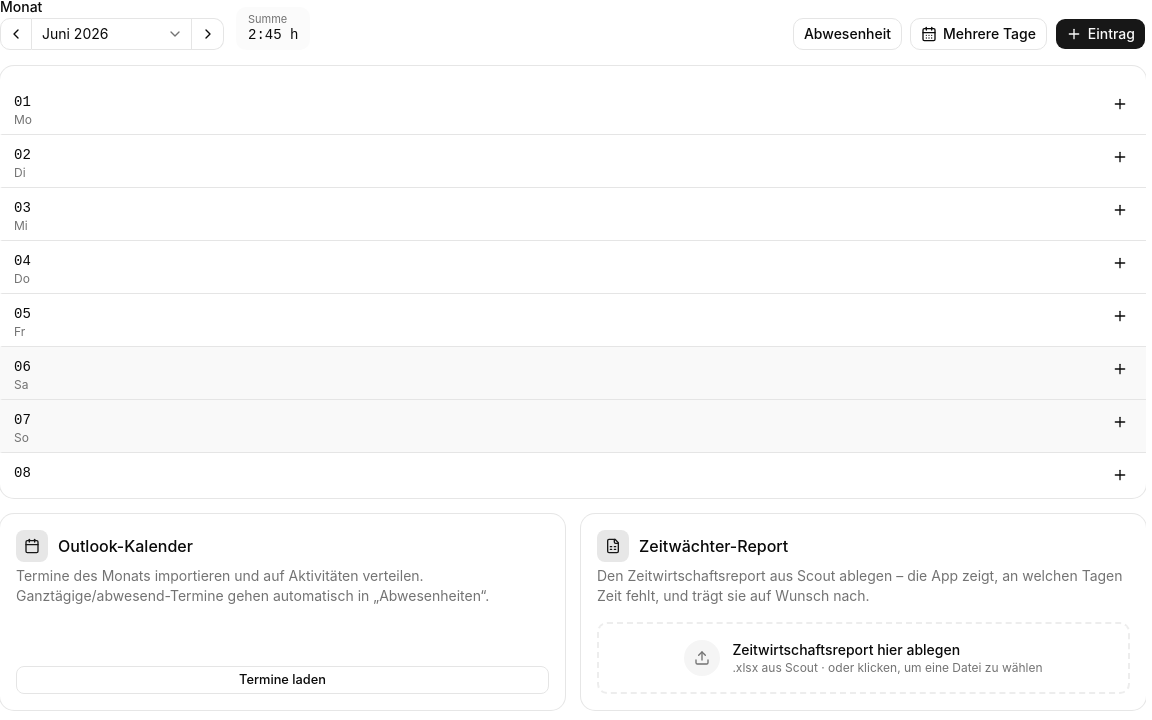
Test: Neuer Eintrag: nach der Wahl der Aktivität › springt auch bei der Wahl mit Enter zu den Stunden
The width and height of the screenshot is (1152, 720).
Step 1. Click the button "Eintrag" → (1100,34), box [1055,18,1146,50]
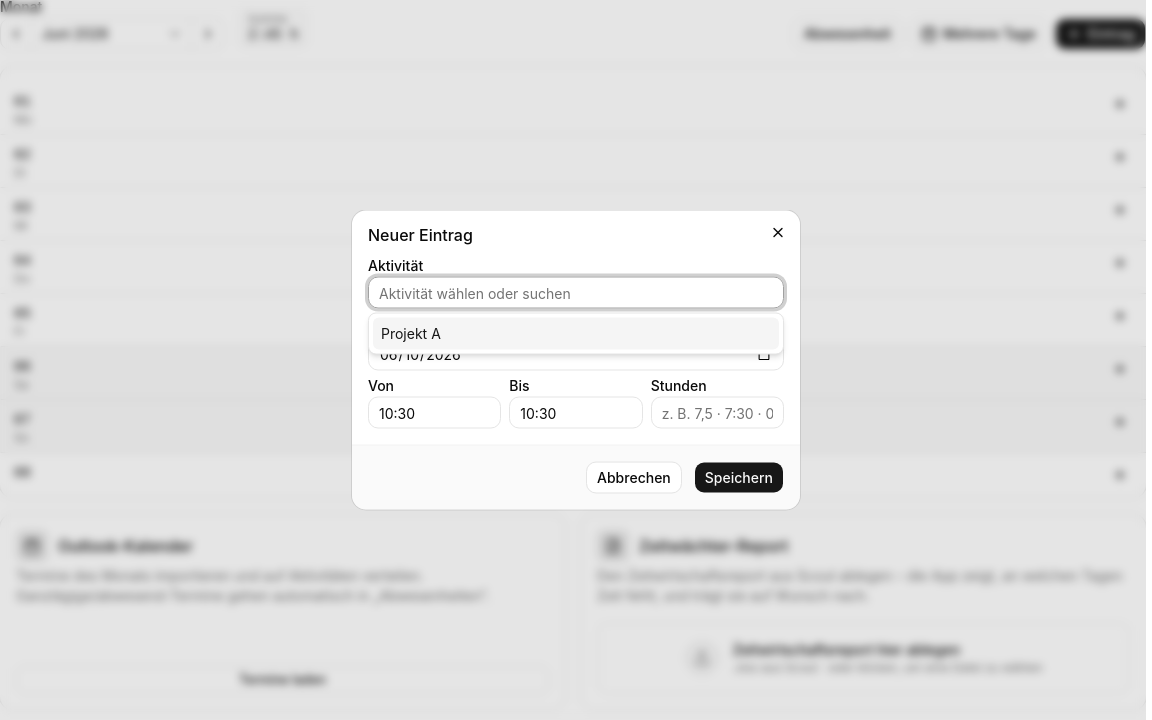
Step 2. Press Enter in the dropdown with id "act", box [368,276,784,308]
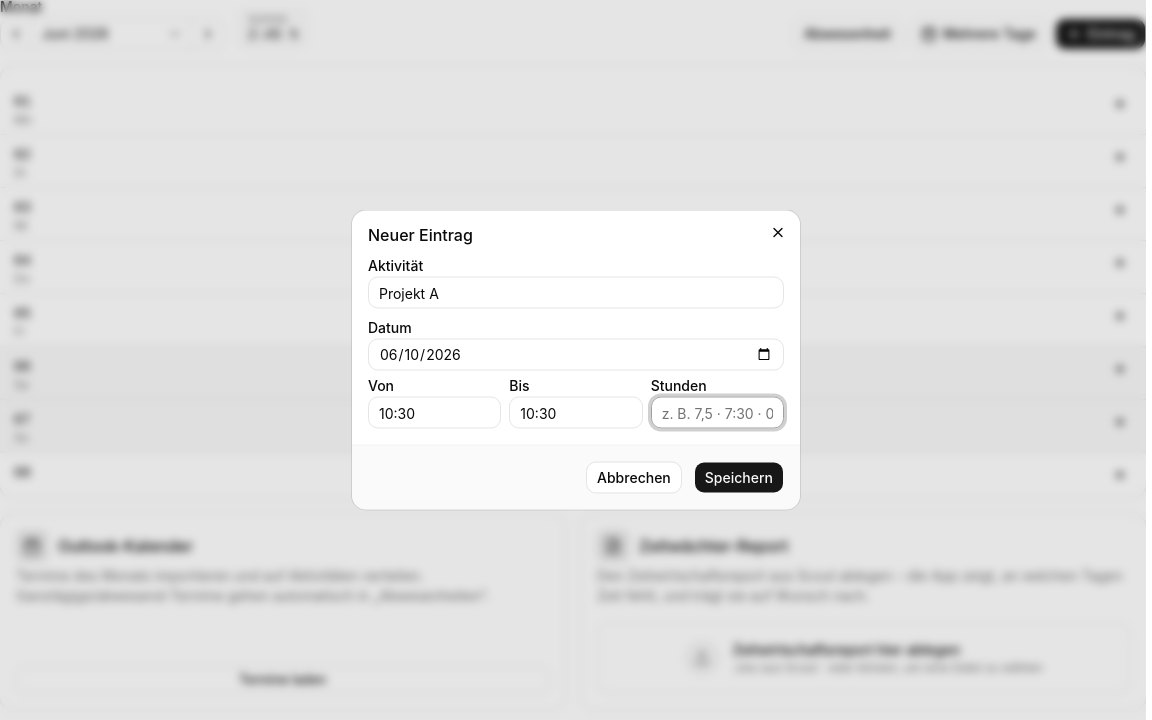
Now the dropdown with id "act" holds "Projekt A", box [368,276,784,308]
